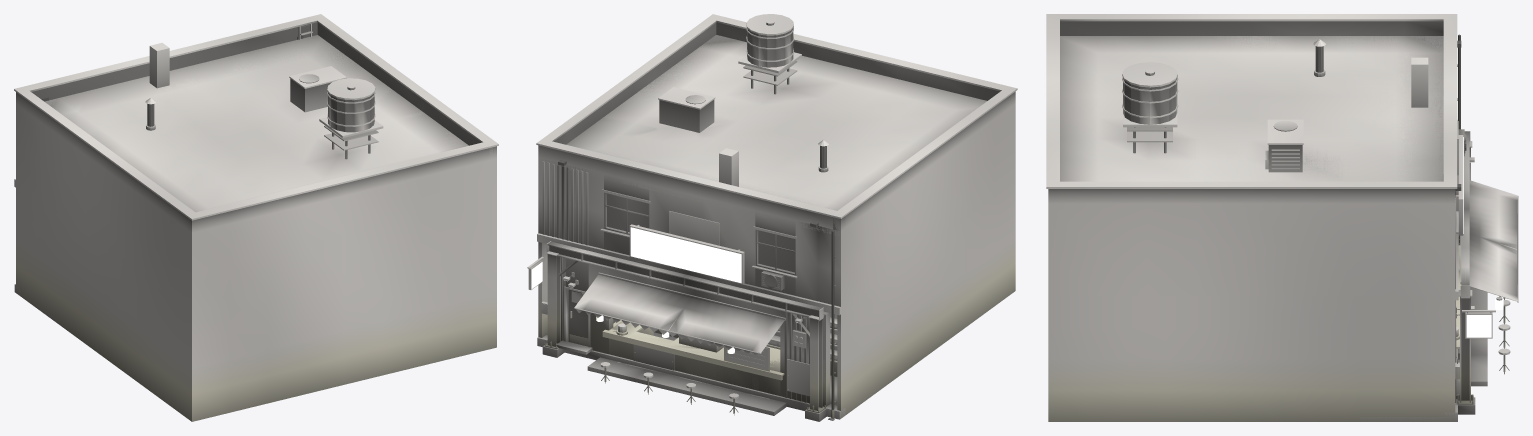
The model's file is redline_shop.glb.
The picture shows the model from 3 angles, left to right: view 1: azimuth 30°, elevation 25°; view 2: azimuth 150°, elevation 25°; view 3: azimuth 270°, elevation 25°; orthographic projection. The views are drawn at different scales.
Parts seen in each view (by area): view 1: redline_shop; view 2: redline_shop; view 3: redline_shop.
Part boxes in pixels (x1,y1,x2,y2): redline_shop: (14, 14, 498, 421); redline_shop: (527, 14, 1017, 421); redline_shop: (1046, 14, 1518, 421).
Bounding box in the file's own units: 12.08 × 9.55 × 13.93.
